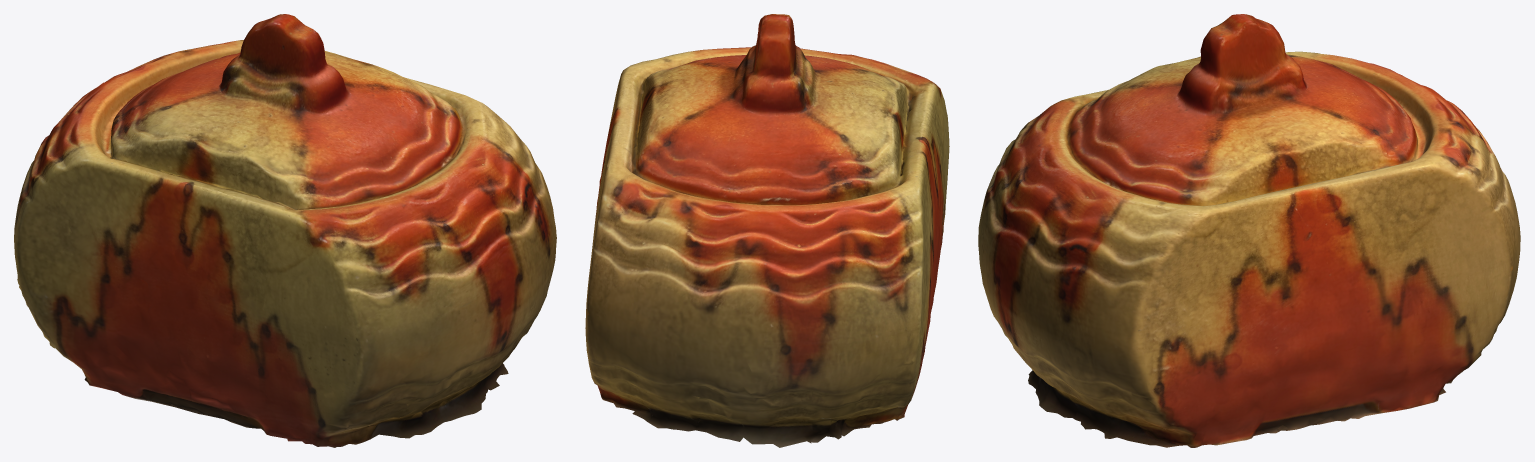
Rendered from Dose.glb.
3 renders of one model, left to right at view 1: azimuth 30°, elevation 25°; view 2: azimuth 150°, elevation 25°; view 3: azimuth 270°, elevation 25°, orthographic. The views are drawn at different scales.
Parts seen in each view (by area): view 1: 3DModel_LowPoly; view 2: 3DModel_LowPoly; view 3: 3DModel_LowPoly.
Boxes of the visible parts, x1,y1,x2,y2 form: 3DModel_LowPoly: (14,14,556,447); 3DModel_LowPoly: (585,14,949,447); 3DModel_LowPoly: (978,14,1520,447).
Bounding box in the file's own units: 3.24 × 2.56 × 3.58.
1 material, 1 textured.
